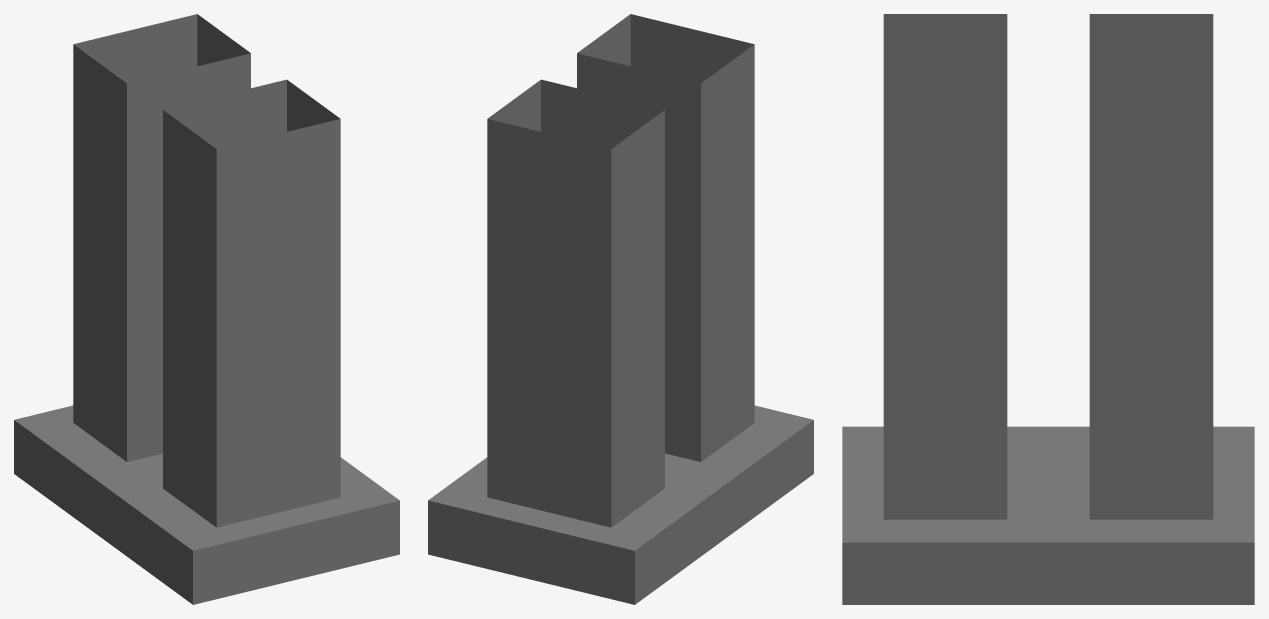
File: epress_head.obj
3 renders of one model, left to right at view 1: azimuth 30°, elevation 25°; view 2: azimuth 150°, elevation 25°; view 3: azimuth 270°, elevation 25°, orthographic. The views are drawn at different scales.
Visible parts, largest first — view 1: Cube.001_Cube.002; view 2: Cube.001_Cube.002; view 3: Cube.001_Cube.002.
Boxes of the visible parts, left/top/right/bottom form: Cube.001_Cube.002: left=14, top=14, right=399, bottom=604; Cube.001_Cube.002: left=428, top=14, right=813, bottom=604; Cube.001_Cube.002: left=842, top=14, right=1254, bottom=604.
Size of the model in its own units: 0.5 by 1 by 0.75.
